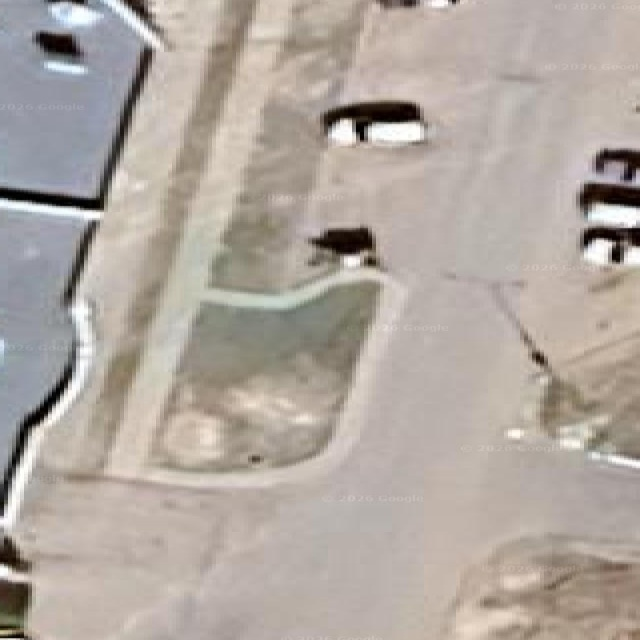car: (0, 0, 160, 207), (579, 148, 639, 227), (324, 101, 426, 144), (0, 532, 30, 636), (579, 181, 639, 227), (308, 227, 377, 267), (580, 227, 639, 266), (32, 31, 85, 74), (593, 148, 639, 181), (584, 201, 639, 227), (48, 0, 100, 27), (379, 0, 459, 7), (0, 627, 27, 639), (424, 0, 459, 8)
